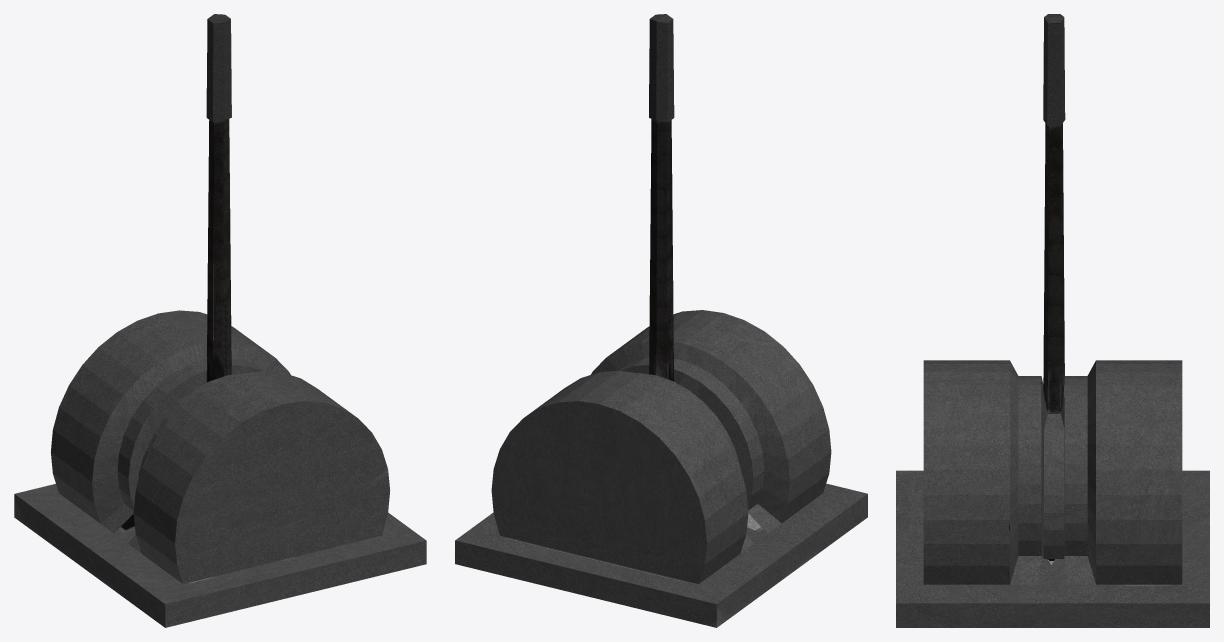
Rendered from lever.fbx.
3 renders of one model, left to right at view 1: azimuth 30°, elevation 25°; view 2: azimuth 150°, elevation 25°; view 3: azimuth 270°, elevation 25°, orthographic. The views are drawn at different scales.
Visible parts, largest first — view 1: Cylinder; view 2: Cylinder; view 3: Cylinder.
Part boxes in pixels (x1,y1,x2,y2): Cylinder: (14, 14, 426, 627); Cylinder: (455, 14, 867, 627); Cylinder: (896, 14, 1209, 627).
Bounding box in the file's own units: 243 × 465 × 243.
1 material, 1 textured.
